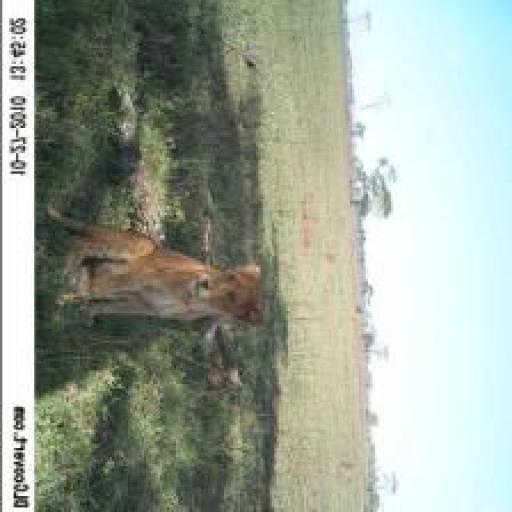lion: (36, 196, 276, 327)
